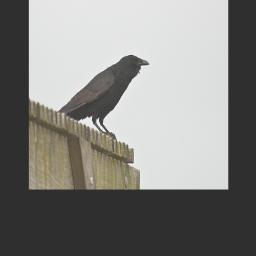Crow: (57, 53, 149, 141)
